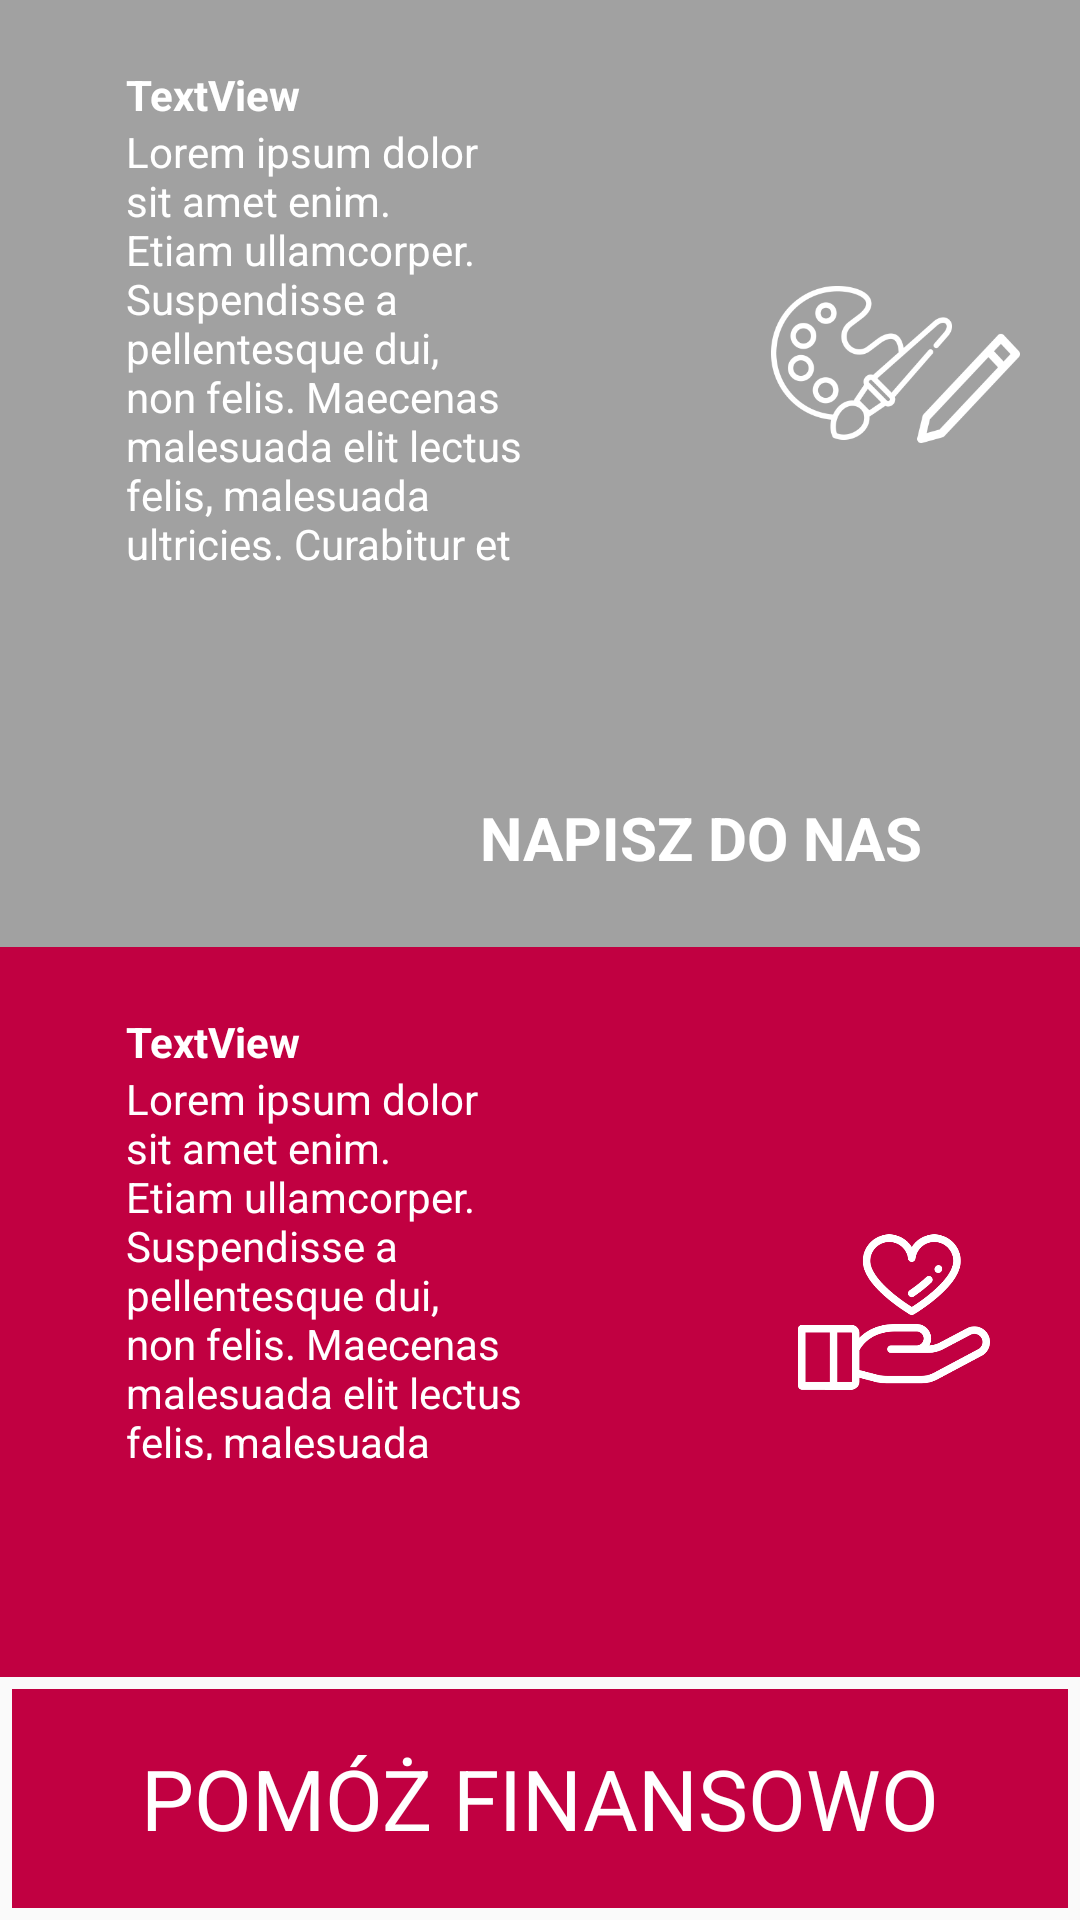

Screen size 1080w x 1920h. Icon name, then its box in pixels as (x1, y1, x2, y2):
hand: (798, 1234, 990, 1390)
